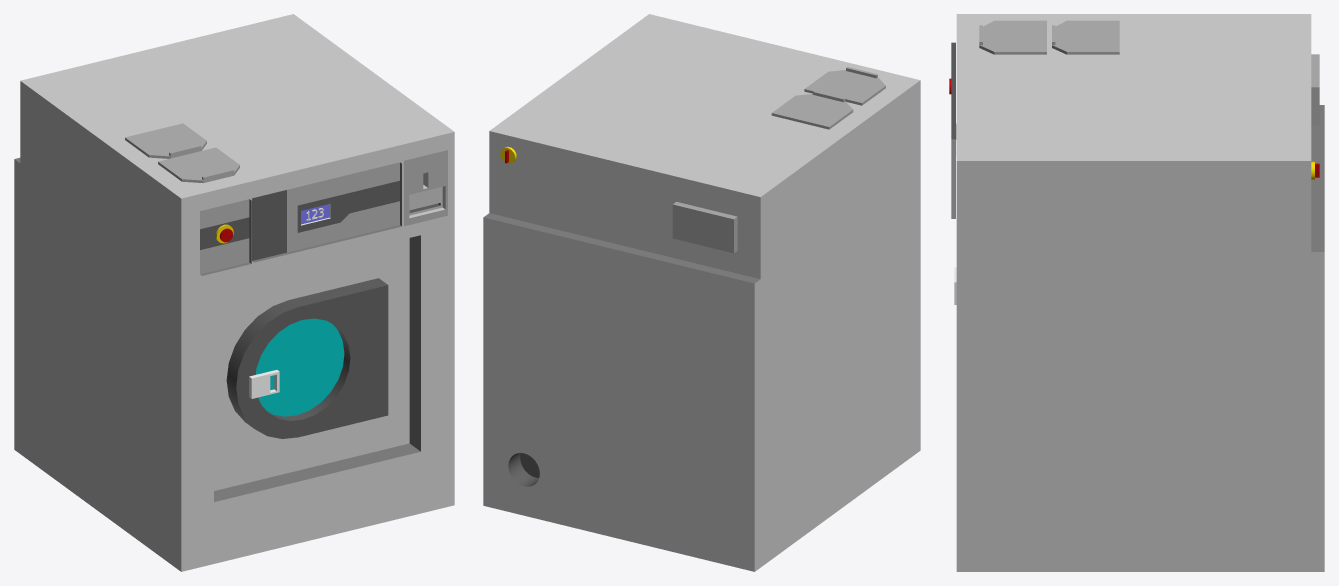
3 views of the same model, side by side, from view 1: azimuth 30°, elevation 25°; view 2: azimuth 150°, elevation 25°; view 3: azimuth 270°, elevation 25° (orthographic). The views are drawn at different scales.
Visible parts, largest first — view 1: Material2 (×15); view 2: Material2 (×6); view 3: Material2 (×6).
Boxes of the visible parts, x1=… form: Material2 (×15): x1=14, y1=14, x2=454, y2=571; Material2 (×6): x1=483, y1=14, x2=920, y2=571; Material2 (×6): x1=951, y1=14, x2=1324, y2=571.
Bounding box in the file's own units: 115 × 152 × 124.
